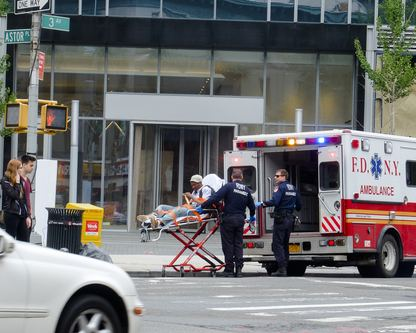ambulance: (222, 126, 416, 278)
car: (0, 241, 146, 330)
